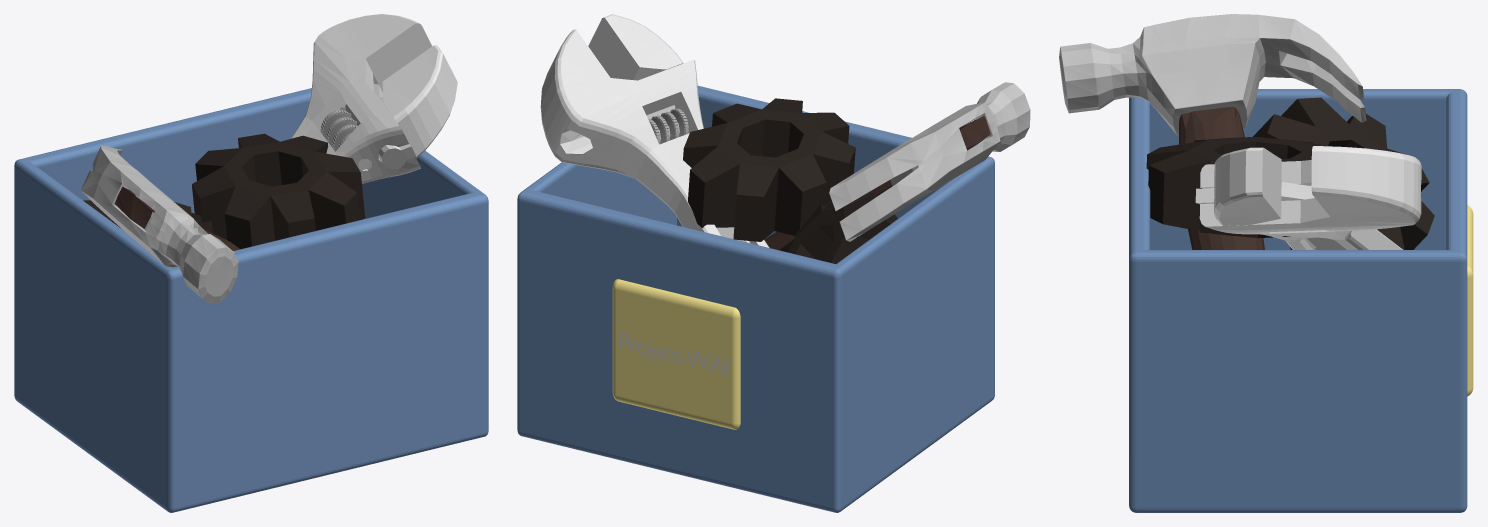
Rendered from RepairKit.fbx.
3 renders of one model, left to right at view 1: azimuth 30°, elevation 25°; view 2: azimuth 150°, elevation 25°; view 3: azimuth 270°, elevation 25°, orthographic. The views are drawn at different scales.
Parts seen in each view (by area): view 1: Box, Wrench, GearWheel3, Hammer; view 2: Box, Wrench, GearWheel3, Plate, Hammer, GearWheel1, 텍스트; view 3: Box, Hammer, Wrench, GearWheel3, GearWheel1, Plate.
Boxes of the visible parts, x1=… form: Box: x1=14, y1=88, x2=488, y2=512; Wrench: x1=290, y1=14, x2=457, y2=183; GearWheel3: x1=192, y1=133, x2=365, y2=249; Hammer: x1=81, y1=145, x2=239, y2=303; Box: x1=517, y1=85, x2=994, y2=512; Wrench: x1=540, y1=14, x2=769, y2=247; GearWheel3: x1=683, y1=98, x2=855, y2=241; Plate: x1=612, y1=279, x2=740, y2=429; Hammer: x1=764, y1=82, x2=1030, y2=250; GearWheel1: x1=779, y1=191, x2=897, y2=263; 텍스트: x1=619, y1=332, x2=728, y2=375; Box: x1=1129, y1=89, x2=1467, y2=512; Hammer: x1=1059, y1=14, x2=1366, y2=249; Wrench: x1=1195, y1=146, x2=1421, y2=249; GearWheel3: x1=1146, y1=137, x2=1325, y2=238; GearWheel1: x1=1253, y1=97, x2=1434, y2=249; Plate: x1=1467, y1=205, x2=1473, y2=396.
Size of the model in its own units: 1.27 by 1.15 by 1.16.
